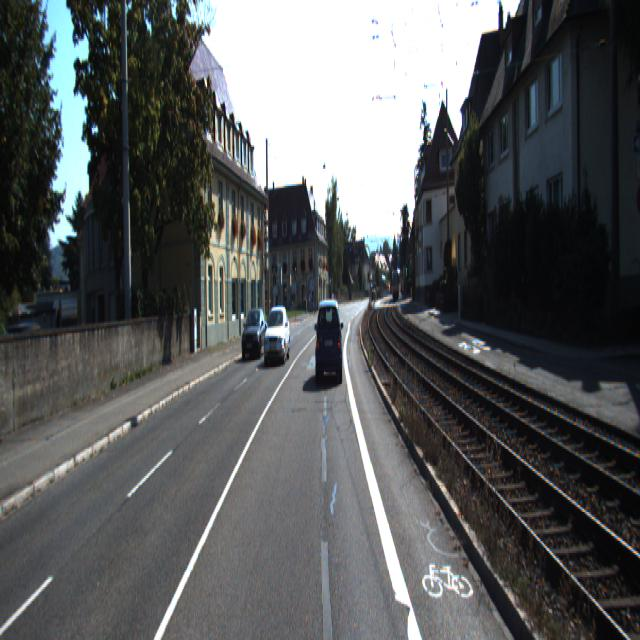Car: (314, 298, 342, 386), (264, 306, 290, 365), (241, 308, 267, 361)
